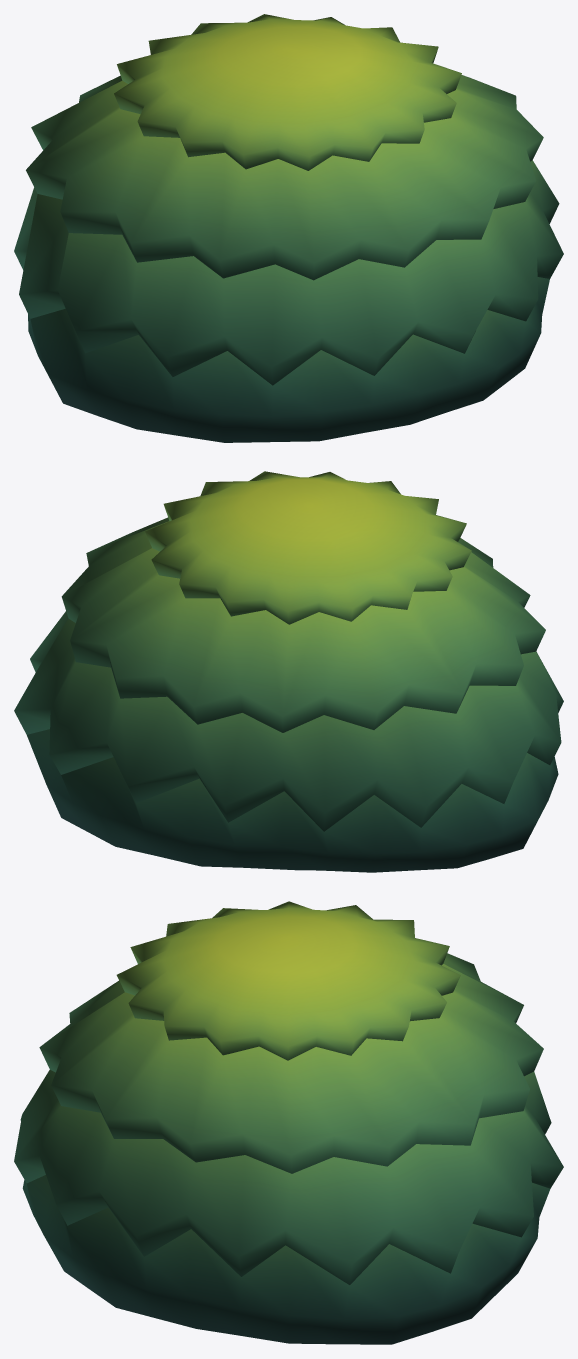
File: bush_green.fbx
3 renders of one model, top to bottom at view 1: azimuth 30°, elevation 25°; view 2: azimuth 150°, elevation 25°; view 3: azimuth 270°, elevation 25°, orthographic. The views are drawn at different scales.
Visible parts, largest first — view 1: bush.001; view 2: bush.001; view 3: bush.001.
Boxes of the visible parts, box(x1,y1,x2,y2) form: bush.001: box(14, 14, 563, 442); bush.001: box(14, 471, 563, 872); bush.001: box(14, 901, 563, 1344).
Bounding box in the file's own units: 12.71 × 7.8 × 12.08.
